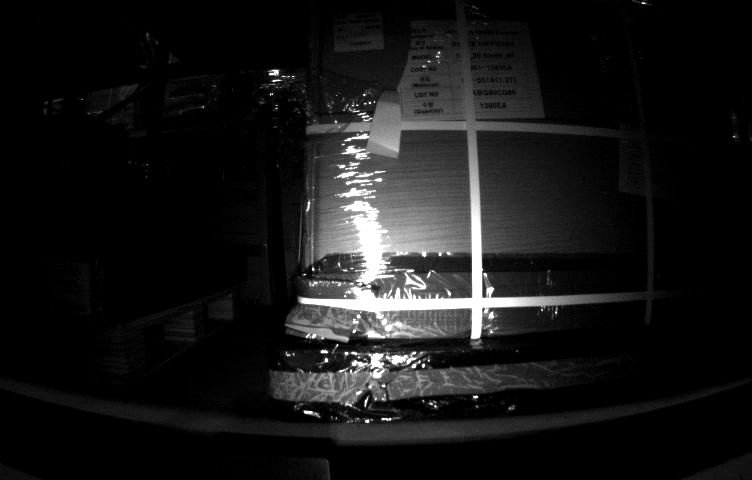True Barcode: (334, 13, 383, 47)
